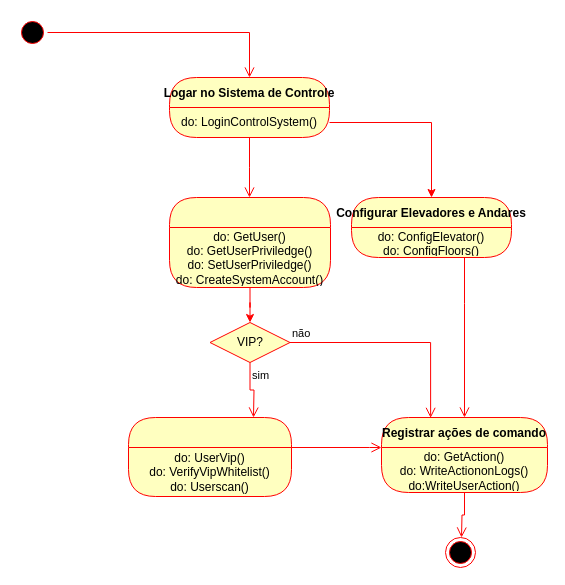
Some shapes in this 565 by 585 pixel diagram are drawn without their labels. The box of each missing label's shape, as (x1, y1, x2, y2) in pixels:
Configurar Acesso VIP: (128, 416, 292, 496)
Gerenciar Usuários: (168, 196, 330, 288)
